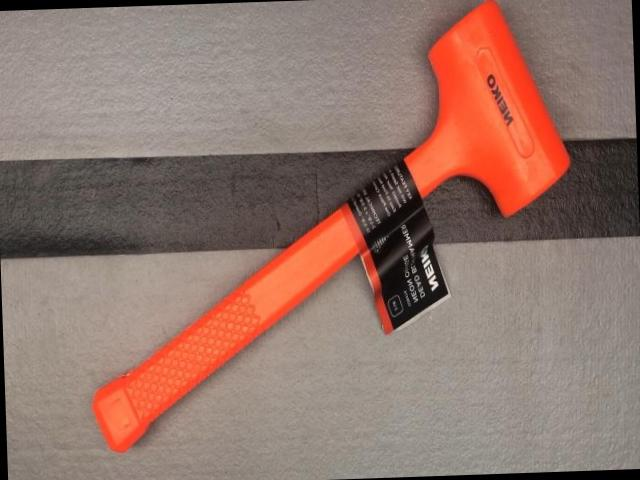hammer: (78, 0, 581, 452)
